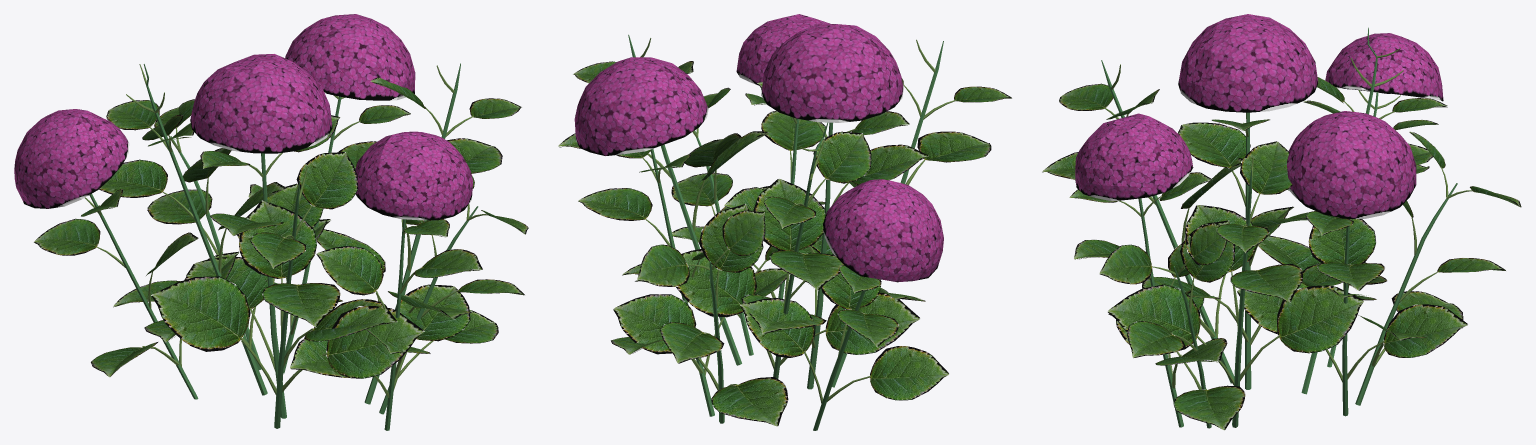
The model's file is sweethome3d-scopia-hydrangea.glb.
3 renders of one model, left to right at view 1: azimuth 30°, elevation 25°; view 2: azimuth 150°, elevation 25°; view 3: azimuth 270°, elevation 25°, orthographic. The views are drawn at different scales.
Parts seen in each view (by area): view 1: Trunk.005, Hydrangea1, Trunk.004, Hydrangea1.003, Hydrangea1.002, Hydrangea1.001, Trunk, Trunk.001, Trunk.008, Trunk.003, Trunk.007, Trunk.006 (+1 smaller); view 2: Trunk.001, Trunk.007, Hydrangea1, Hydrangea1.001, Trunk.008, Hydrangea1.003, Trunk, Trunk.002, Trunk.005, Trunk.006, Trunk.003, Trunk.004 (+1 smaller); view 3: Trunk.003, Hydrangea1.001, Hydrangea1, Trunk.002, Trunk.006, Hydrangea1.002, Hydrangea1.003, Trunk, Trunk.005, Trunk.007, Trunk.004, Trunk.001 (+1 smaller).
Part boxes in pixels (<box>): Trunk.005: <box>151,152,424,428</box>; Hydrangea1: <box>190,54,332,153</box>; Trunk.004: <box>289,219,482,430</box>; Hydrangea1.003: <box>14,109,129,208</box>; Hydrangea1.002: <box>355,131,473,220</box>; Hydrangea1.001: <box>285,14,415,100</box>; Trunk: <box>185,115,397,418</box>; Trunk.001: <box>99,64,330,395</box>; Trunk.008: <box>33,189,239,399</box>; Trunk.003: <box>317,63,521,404</box>; Trunk.007: <box>113,99,261,369</box>; Trunk.006: <box>366,175,528,414</box>; Trunk.001: <box>676,122,920,378</box>; Trunk.007: <box>613,204,788,426</box>; Hydrangea1: <box>761,23,903,122</box>; Hydrangea1.001: <box>574,57,708,155</box>; Trunk.008: <box>740,254,949,430</box>; Hydrangea1.003: <box>823,179,943,282</box>; Trunk: <box>723,81,928,389</box>; Trunk.002: <box>577,149,789,416</box>; Trunk.005: <box>811,39,1012,387</box>; Trunk.006: <box>621,87,777,355</box>; Trunk.003: <box>558,34,769,365</box>; Trunk.004: <box>667,93,826,298</box>; Trunk.003: <box>1107,141,1364,427</box>; Hydrangea1.001: <box>1287,111,1415,218</box>; Hydrangea1: <box>1178,14,1318,112</box>; Trunk.002: <box>1237,211,1468,416</box>; Trunk.006: <box>1099,220,1245,430</box>; Hydrangea1.002: <box>1075,113,1193,201</box>; Hydrangea1.003: <box>1325,33,1443,100</box>; Trunk: <box>1142,112,1366,389</box>; Trunk.005: <box>1041,60,1293,383</box>; Trunk.007: <box>1355,131,1521,405</box>; Trunk.004: <box>1069,172,1227,427</box>; Trunk.001: <box>1258,27,1447,394</box>.
Bounding box in the file's own units: 79.79 × 64.94 × 78.2.
Materials: 4 (2 with a texture image).
